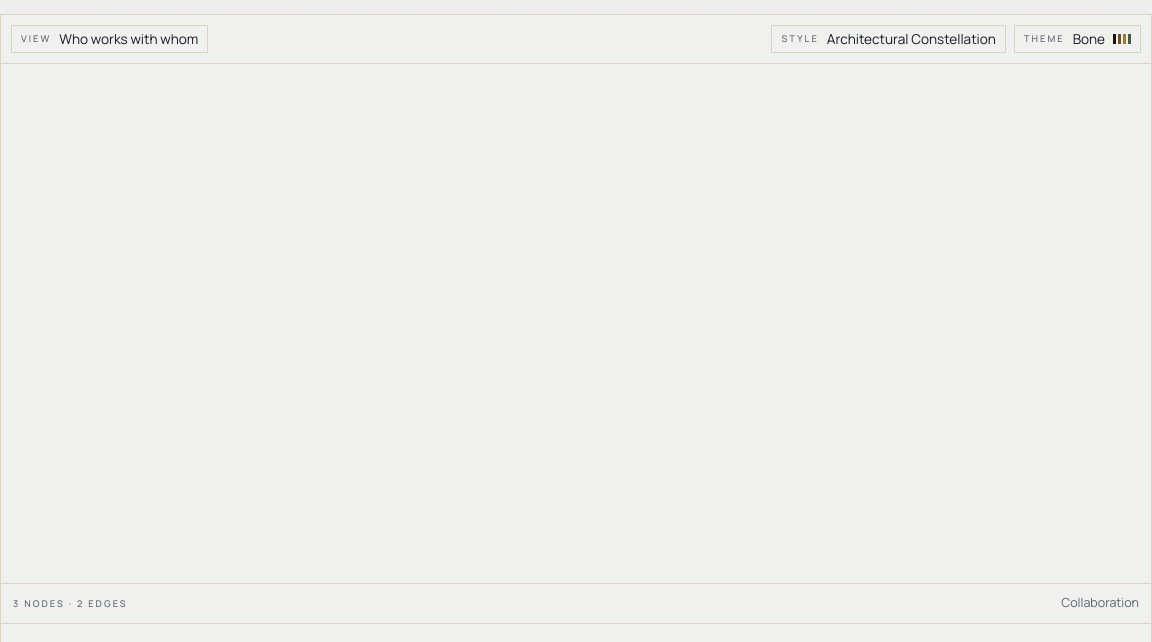
GraphStage › offers no dark theme, so a dark gamut cannot paint a black block into the page
This screenshot has width=1152, height=642.
Expected: the text "3 nodes · 2 edges" is shown, [13,597,128,611]
Click the button "theme Bone": {"x": 1077, "y": 39} [1014,25,1141,53]
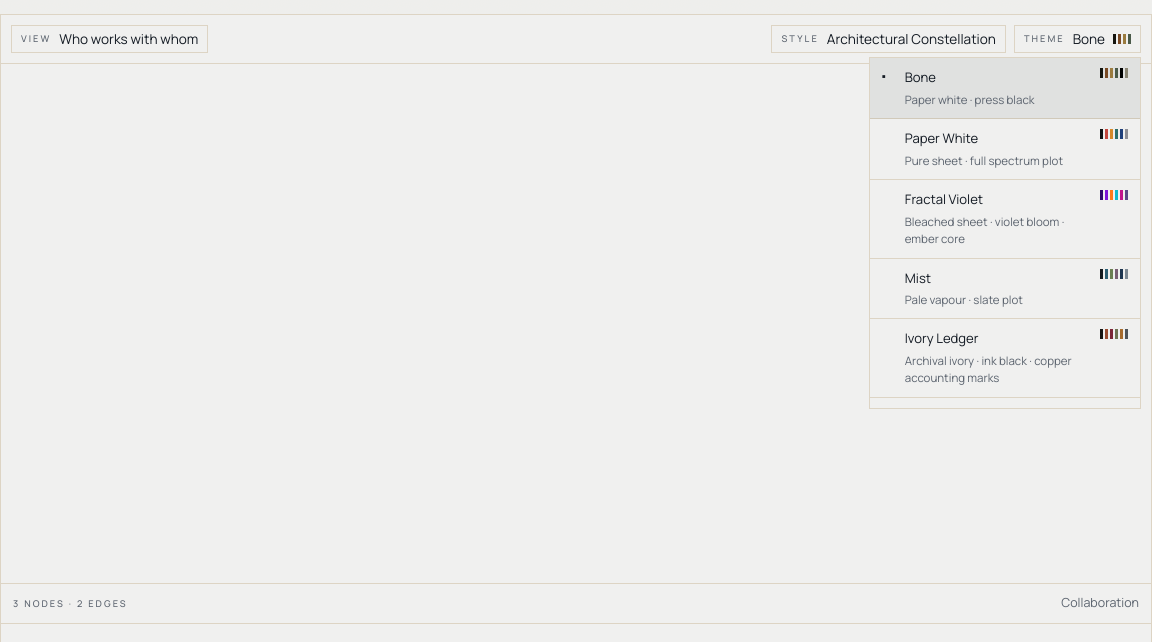
Expected: the menu item "▪ Bone Paper white · press black" is shown, [870,58,1140,119]
